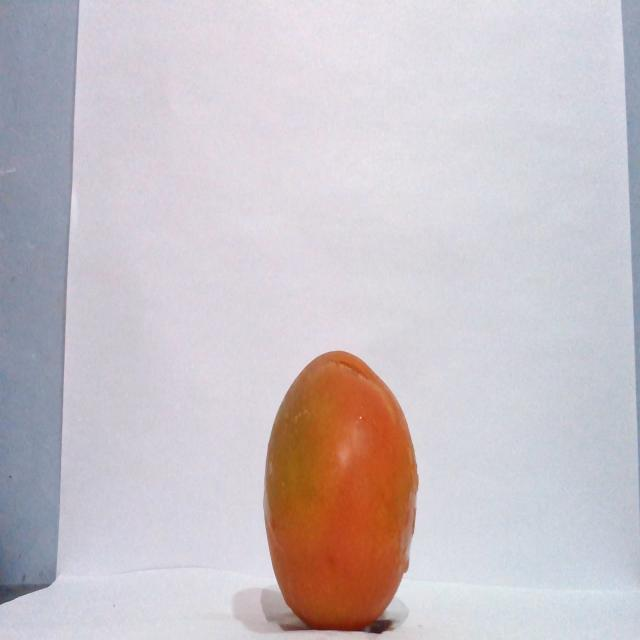Red: (261, 348, 419, 630)
